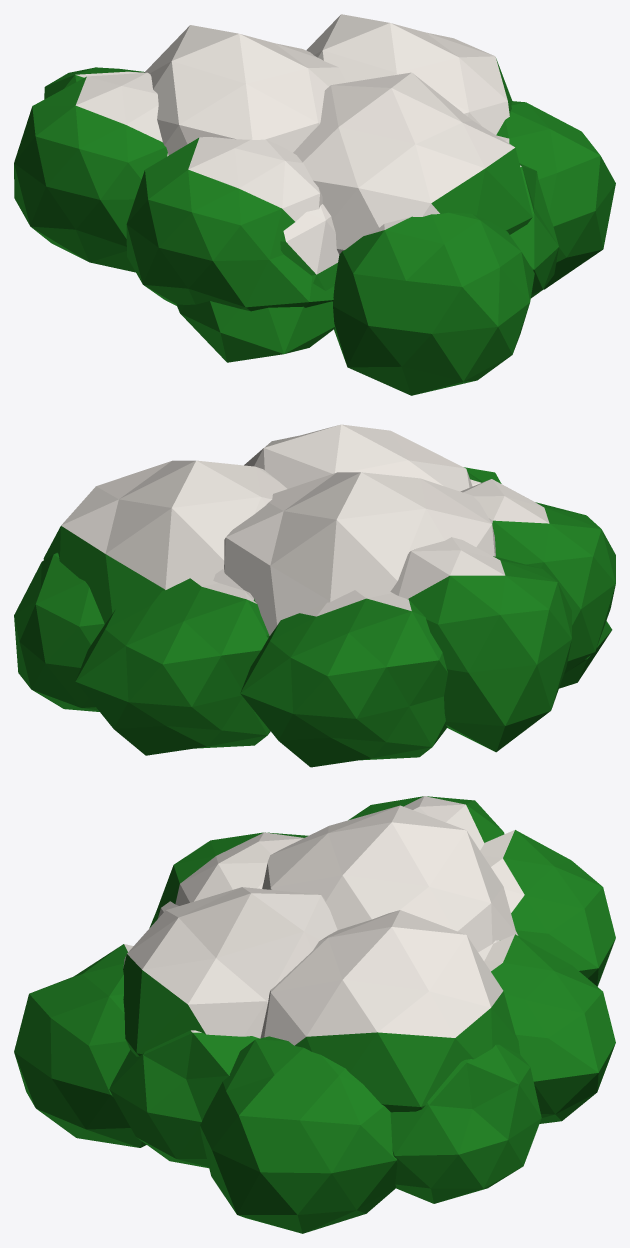
File: snow_bush_1.fbx
3 views of the same model, one above another, from view 1: azimuth 30°, elevation 25°; view 2: azimuth 150°, elevation 25°; view 3: azimuth 270°, elevation 25° (orthographic). The views are drawn at different scales.
Parts seen in each view (by area): view 1: Icosphere.345; view 2: Icosphere.345; view 3: Icosphere.345.
Part boxes in pixels (<box>): Icosphere.345: <box>14,14,615,395</box>; Icosphere.345: <box>14,424,615,767</box>; Icosphere.345: <box>14,796,615,1233</box>.
Bounding box in the file's own units: 2409 × 1199 × 2361.
